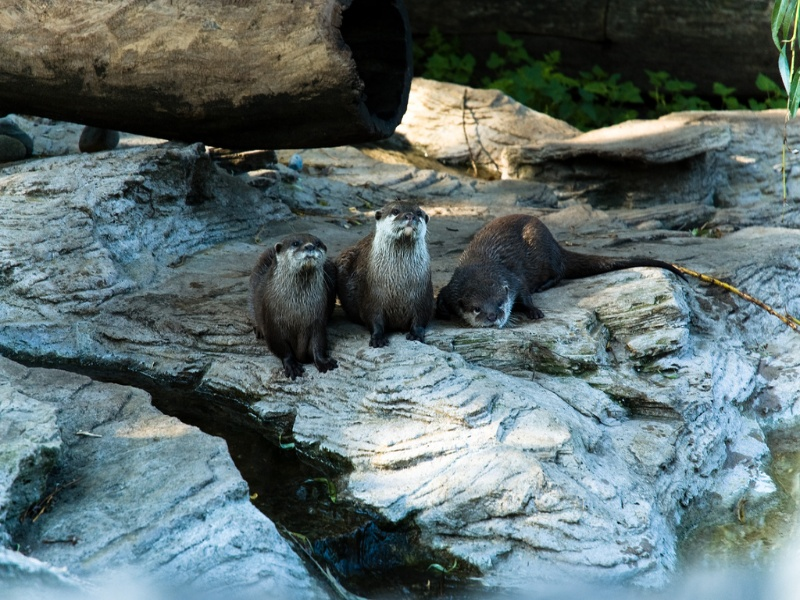minkish: (437, 205, 692, 333), (337, 201, 437, 351), (249, 233, 343, 376)
